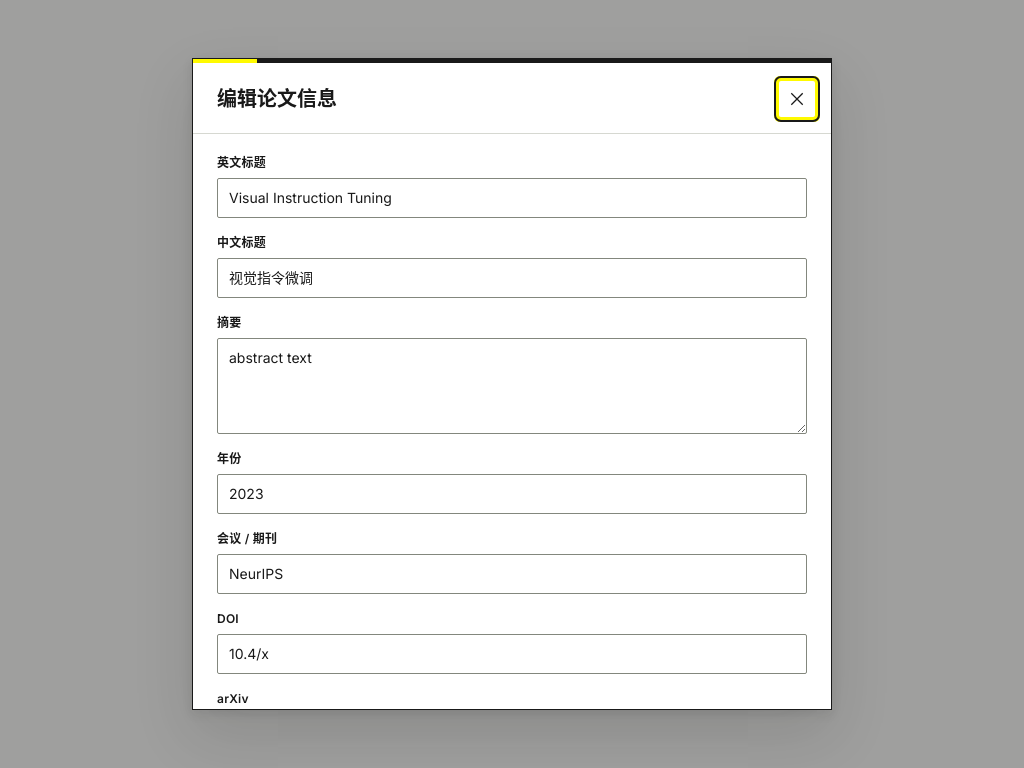
Test case: EditPaperDialog · 年份校验（F9：NaN 不落库） › 年份输入 "abc" 显示行内错误并禁用保存
This screenshot has width=1024, height=768.
Step 1. Replace the text in the field labelled "年份" with "abc" → coordinates (512, 494), box [217, 474, 807, 514]
(page scrolled)
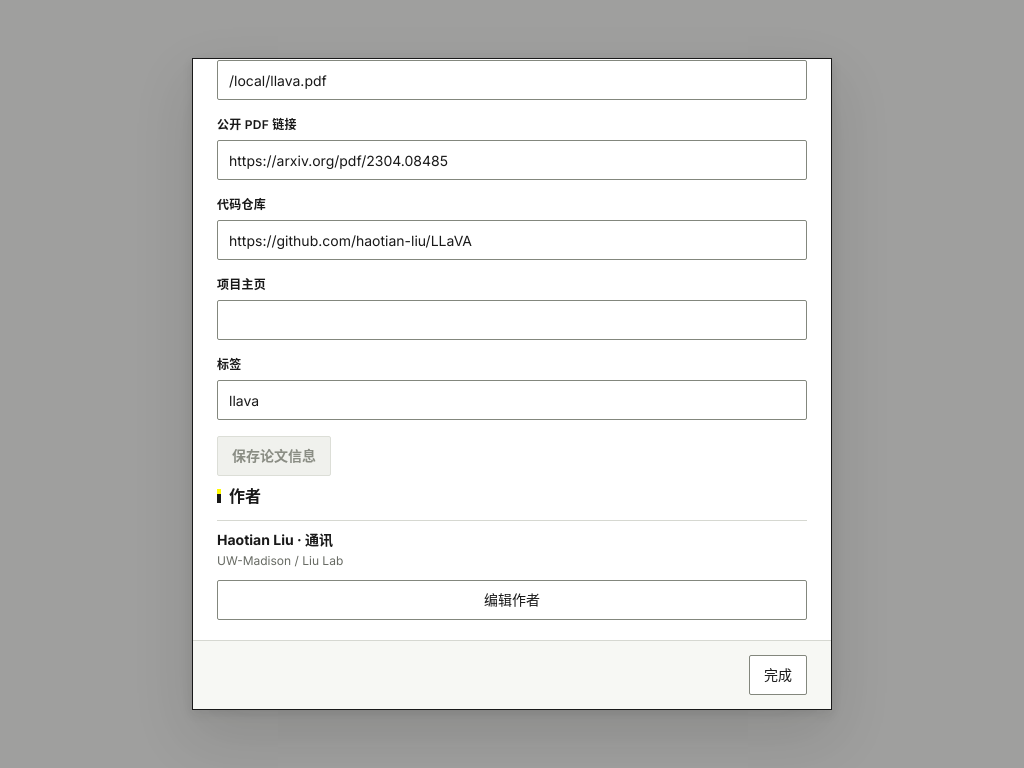
Expected: the button "保存论文信息" is disabled, [217, 436, 331, 476]
